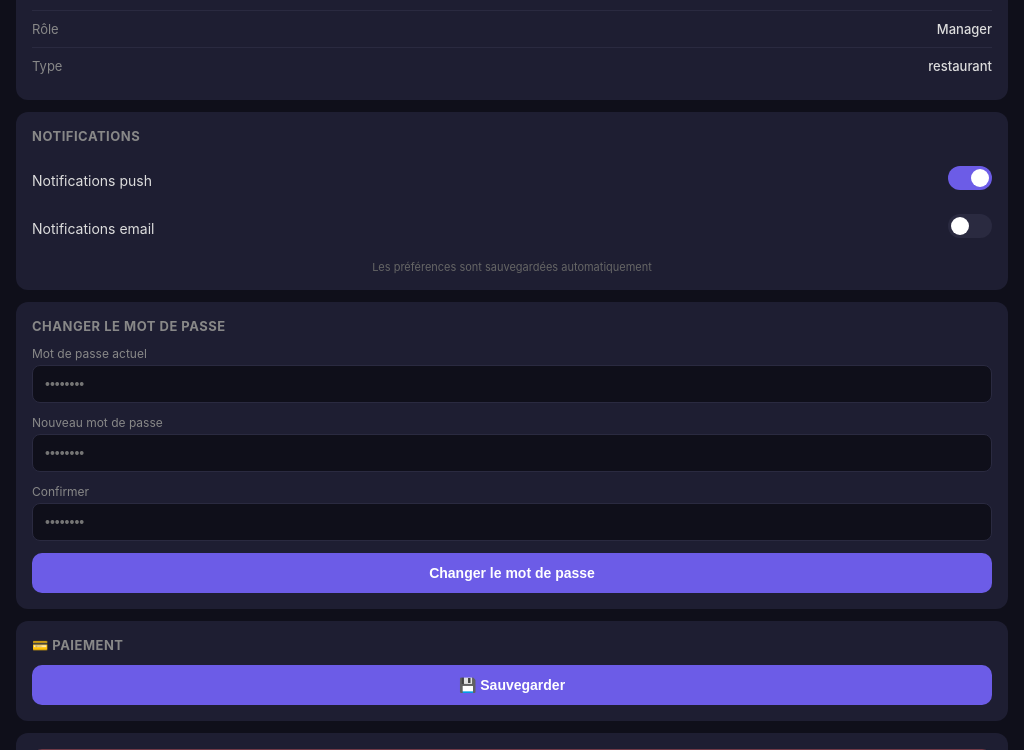
Scenario: Profile.vue › changePassword validation › refuse si le nouveau mot de passe fait moins de 8 caracteres
The image size is (1024, 750).
(page scrolled)
Type "currentpwd" into the password field with placeholder "••••••••" below "Mot de passe actuel" at [512, 384], box [32,365,992,403]
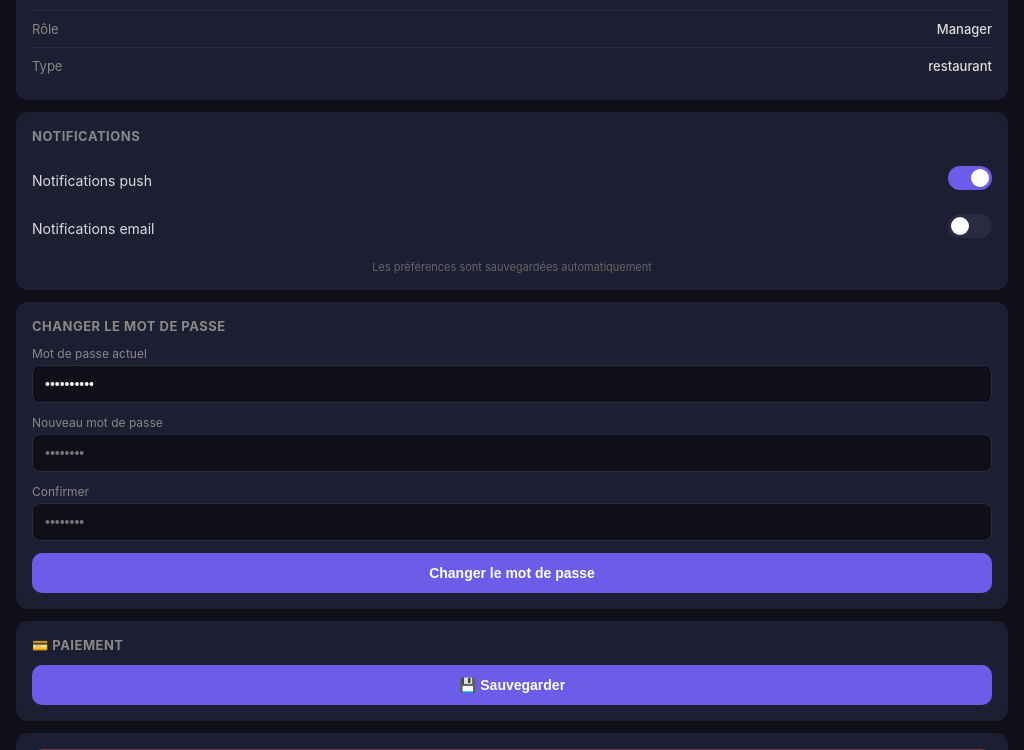
Type "short" into the password field with placeholder "••••••••" below "Nouveau mot de passe" at [512, 453], box [32,434,992,472]
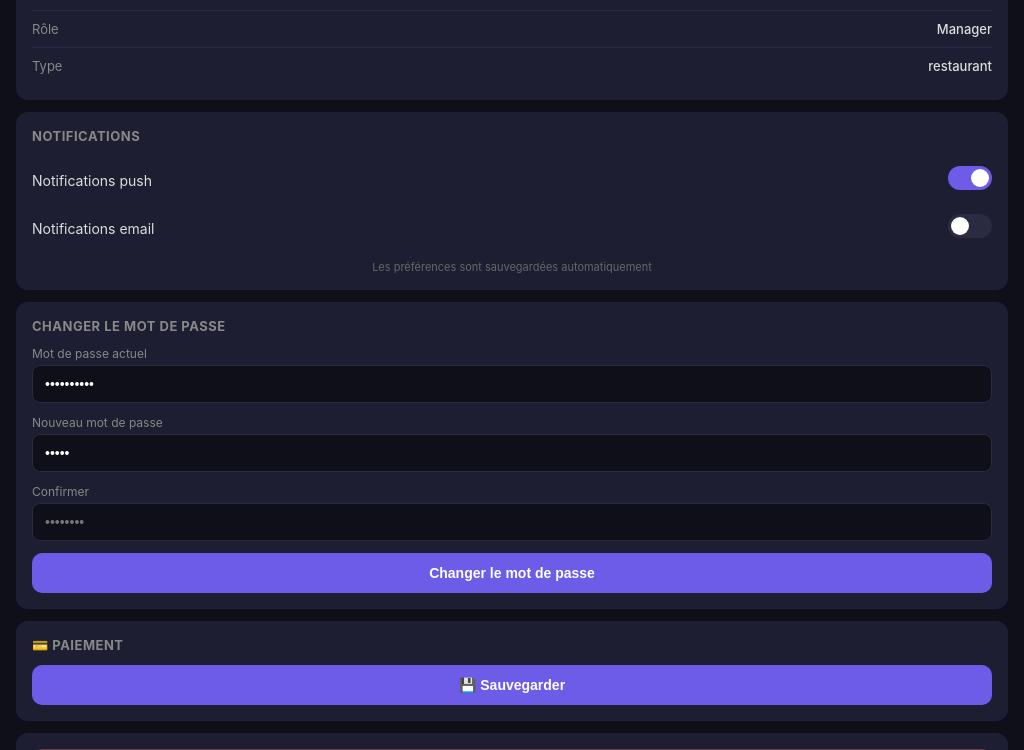
Type "short" into the password field with placeholder "••••••••" at [512, 522], box [32,503,992,541]
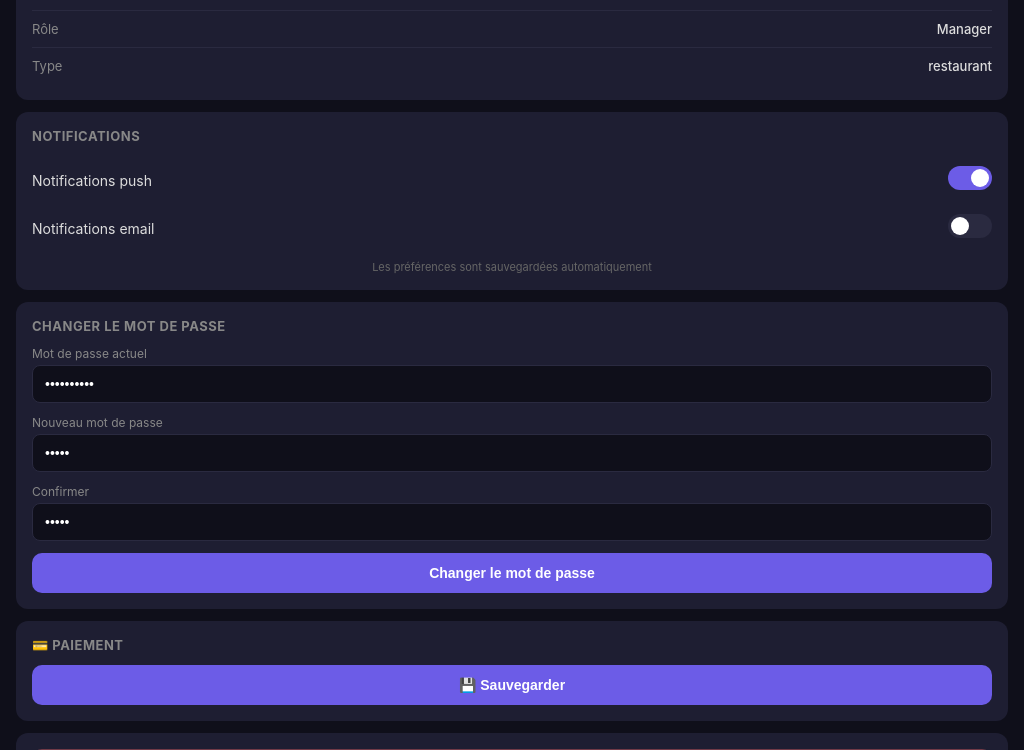
Click the button with class "btn-save" showing "Changer le mot de passe" at [512, 573], box [32,553,992,593]
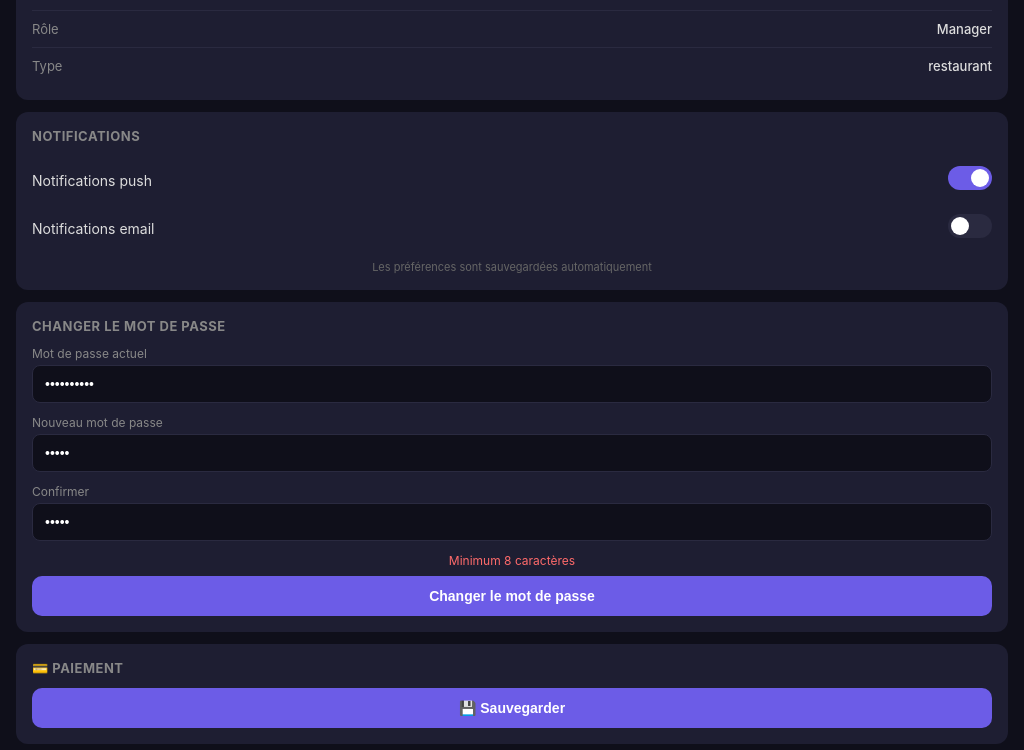
Expected: the text "Minimum 8 caractères" is shown, [449,553,575,568]
